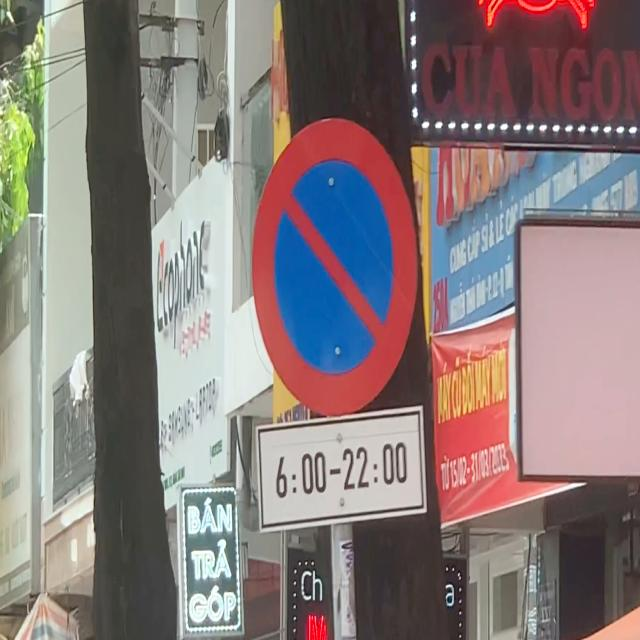Cam do: (252, 120, 418, 416)
